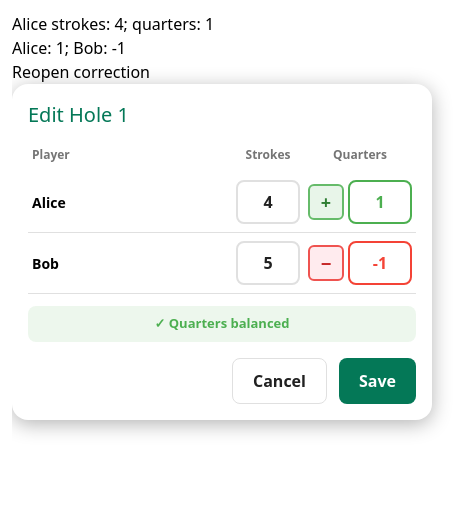
Scenario: correction save through the real handler and editor › real sync manager queues a correction on offline, and the editor explicitly reports pending sync
Replace the text in the field named "Alice strokes" with "6". click: [268, 202]
box: [236,180,300,224]
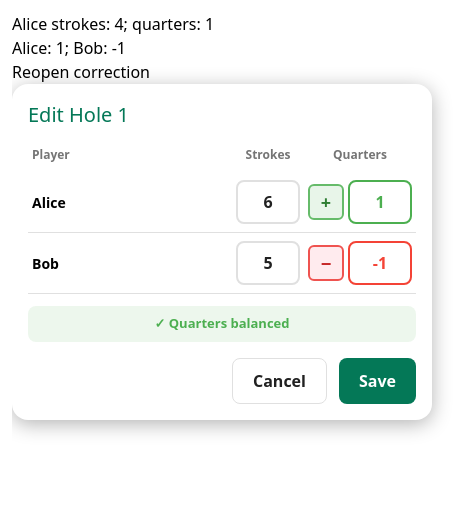
Replace the text in the field named "Alice quarters" with "2". click: [380, 202]
box: [348,180,412,224]
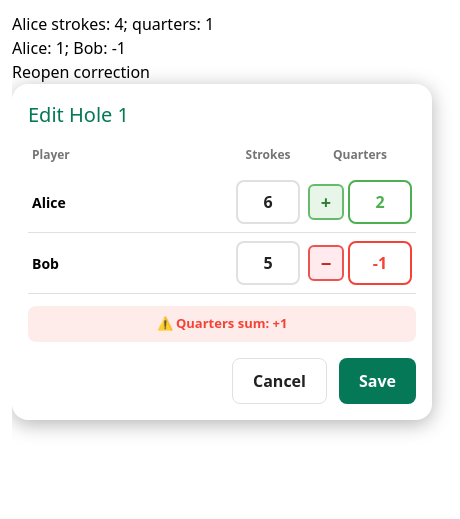
Replace the text in the field named "Bob quarters" with "-2". click: [380, 263]
box: [348,241,412,285]
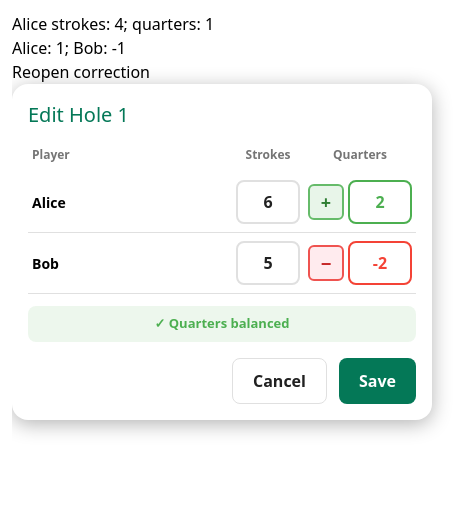
Click the button "Save". click: [378, 380]
box: [339,358,416,404]
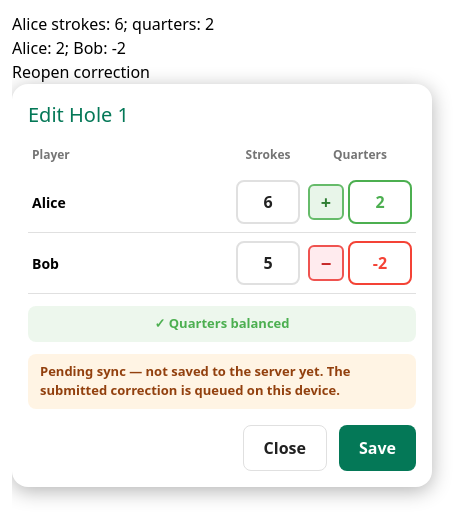
expect the message shows "Pending sync": met, box [40,362,350,399]
expect the message shows "not saved to the server": met, box [40,362,350,399]
expect the text named "History" reads "Alice strokes: 6; quarters: 2": met, box [12,13,214,35]
